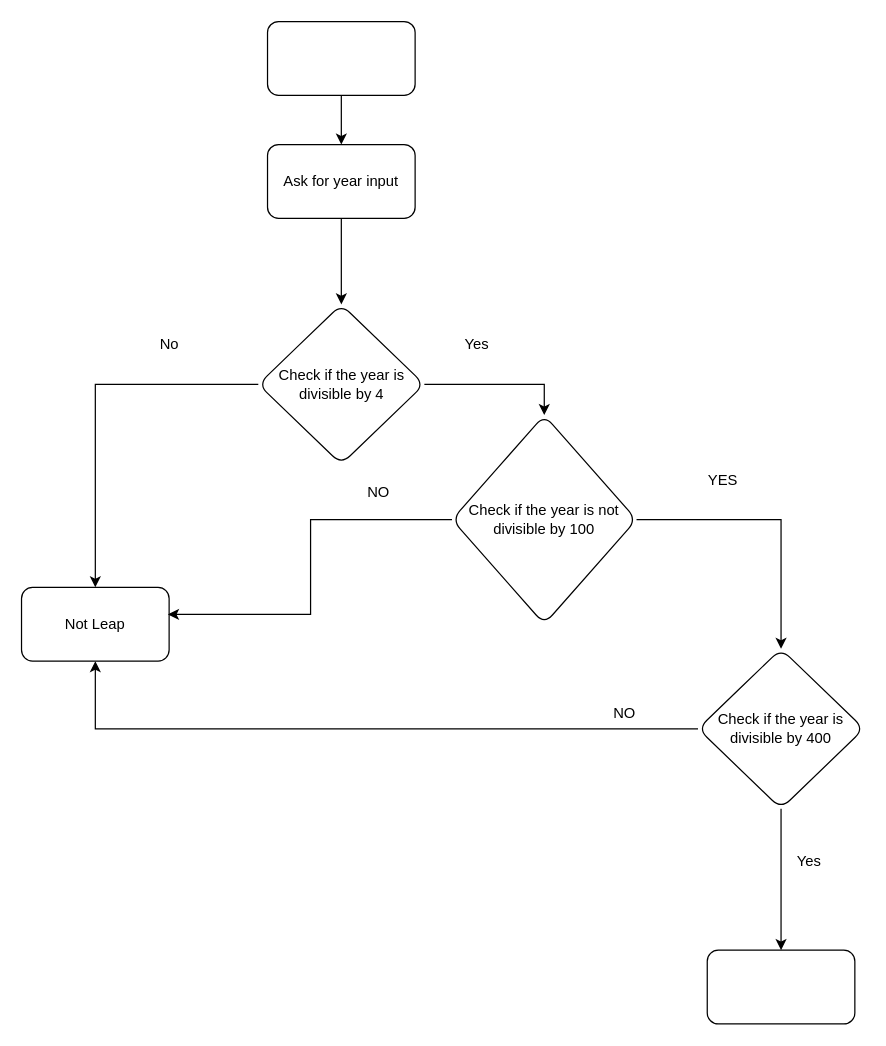
Image size: 886x1046. Some labels were removed from this diagram. The shapes that lost their labels are listed below. From the top down, each one's centre as x and y in pixels, then its label:
[340,57]: Start
[780,986]: Leap year
